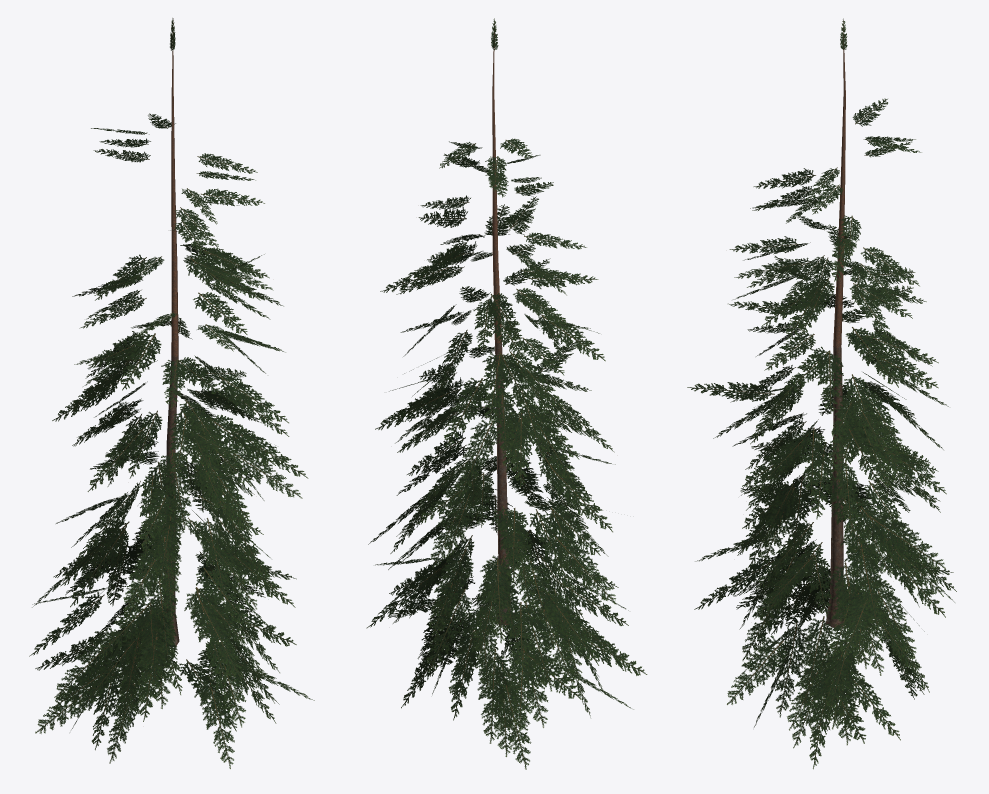
Rendered from spruce_a_LOD2.glb.
The picture shows the model from 3 angles, left to right: view 1: azimuth 30°, elevation 25°; view 2: azimuth 150°, elevation 25°; view 3: azimuth 270°, elevation 25°; orthographic projection. The views are drawn at different scales.
Parts seen in each view (by area): view 1: Spruce_A_LOD2_Foliage, Spruce_A_LOD2_Bark; view 2: Spruce_A_LOD2_Foliage, Spruce_A_LOD2_Bark; view 3: Spruce_A_LOD2_Foliage, Spruce_A_LOD2_Bark.
Part boxes in pixels (x1,y1,x2,y2): Spruce_A_LOD2_Foliage: (29, 18, 314, 768); Spruce_A_LOD2_Bark: (163, 18, 179, 645); Spruce_A_LOD2_Foliage: (366, 18, 647, 769); Spruce_A_LOD2_Bark: (492, 25, 511, 625); Spruce_A_LOD2_Foliage: (687, 18, 956, 769); Spruce_A_LOD2_Bark: (826, 19, 845, 628).
Bounding box in the file's own units: 12.61 × 30.86 × 11.32.
Materials: 2 (2 with a texture image).
